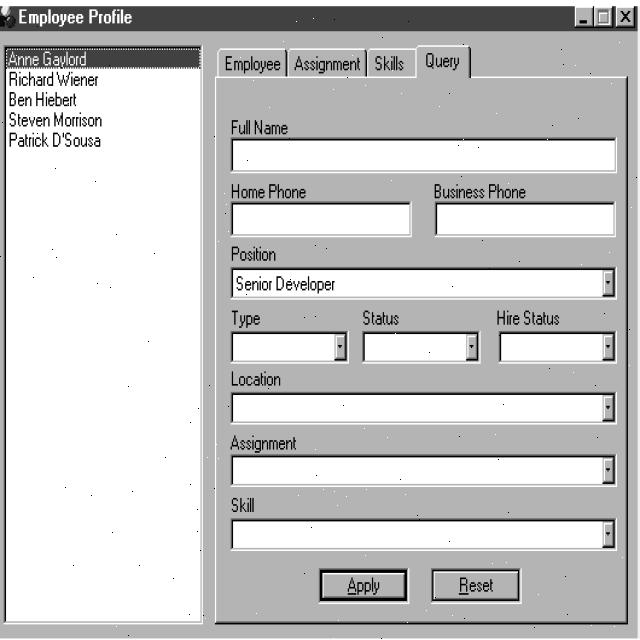button: (430, 564, 523, 606), (318, 566, 410, 605), (572, 3, 595, 28), (616, 6, 636, 28), (594, 6, 614, 28)
dropdownMenu: (230, 516, 620, 554), (229, 452, 620, 489), (230, 389, 620, 425), (229, 264, 618, 300), (362, 329, 483, 366), (230, 328, 350, 365), (499, 330, 619, 366)
icon: (0, 0, 18, 31)
input: (230, 136, 618, 175), (435, 201, 618, 240), (230, 200, 414, 238)
label: (19, 0, 138, 29), (6, 124, 104, 151), (8, 109, 112, 129), (5, 46, 91, 69), (433, 181, 528, 201), (6, 69, 103, 87), (6, 89, 79, 109), (229, 182, 309, 200), (230, 434, 299, 453), (495, 308, 560, 328), (230, 368, 282, 389), (230, 117, 291, 134), (231, 245, 278, 263), (362, 308, 401, 328), (231, 308, 262, 329), (229, 495, 257, 515)
tabControl: (212, 43, 489, 87)
